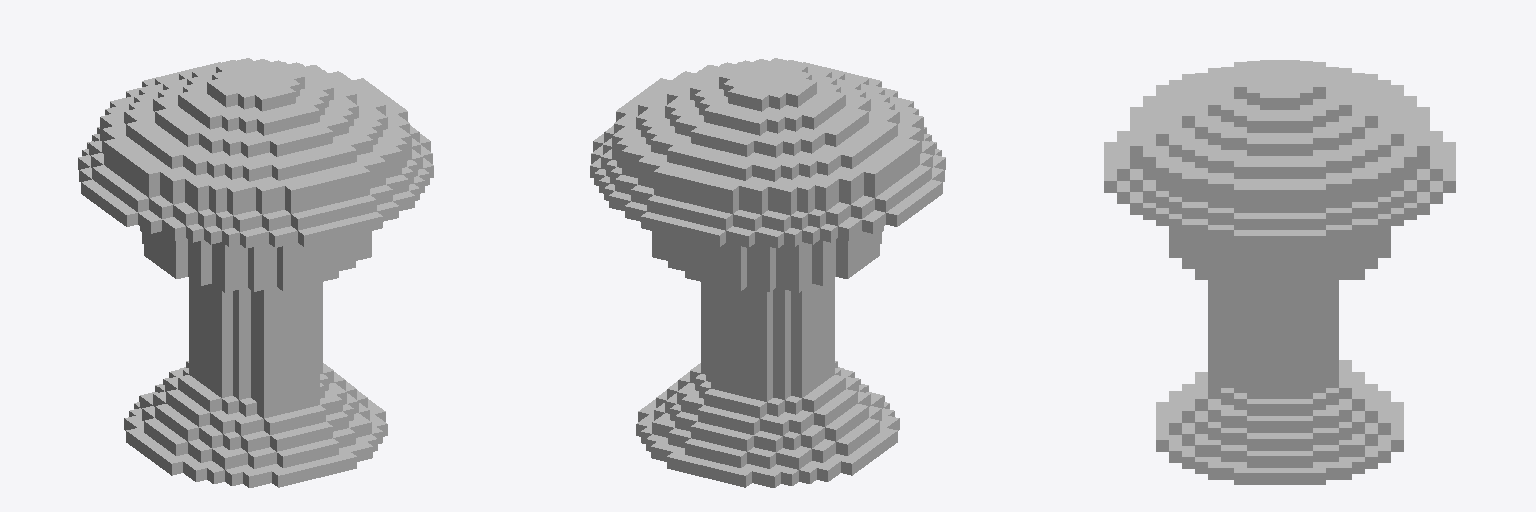
The model's file is tower.obj.
3 renders of one model, left to right at view 1: azimuth 30°, elevation 25°; view 2: azimuth 150°, elevation 25°; view 3: azimuth 270°, elevation 25°, orthographic.
Bounding box in the file's own units: 27 × 30 × 27.